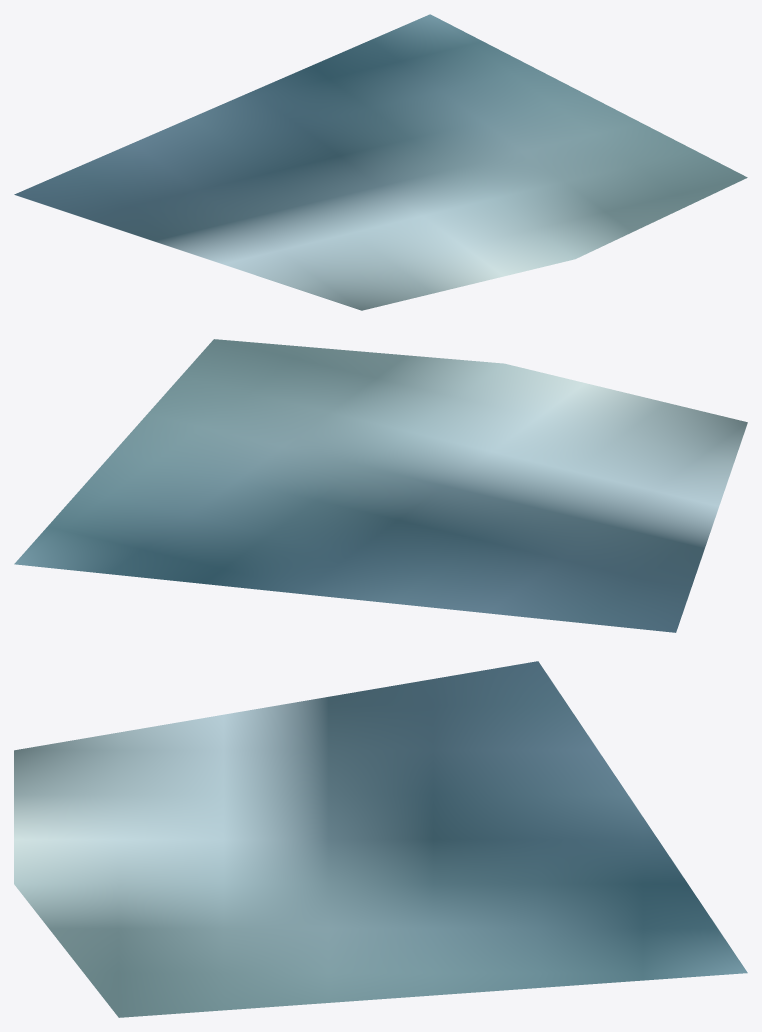
File: chunk_1_-6.glb
The picture shows the model from 3 angles, top to bottom: view 1: azimuth 30°, elevation 25°; view 2: azimuth 150°, elevation 25°; view 3: azimuth 270°, elevation 25°; orthographic projection. The views are drawn at different scales.
Parts seen in each view (by area): view 1: hero-chunk; view 2: hero-chunk; view 3: hero-chunk.
Boxes of the visible parts, box(x1,y1,x2,y2) form: hero-chunk: box(14, 14, 747, 310); hero-chunk: box(14, 339, 747, 632); hero-chunk: box(14, 661, 747, 1017).
Bounding box in the file's own units: 2.46 × 0.00682 × 2.15.
Materials: 1 (1 with a texture image).
